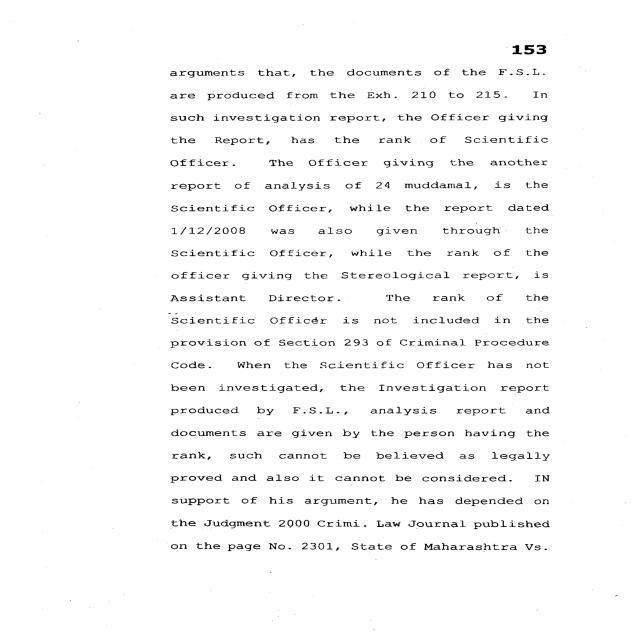page-number: (431, 0, 635, 60)
